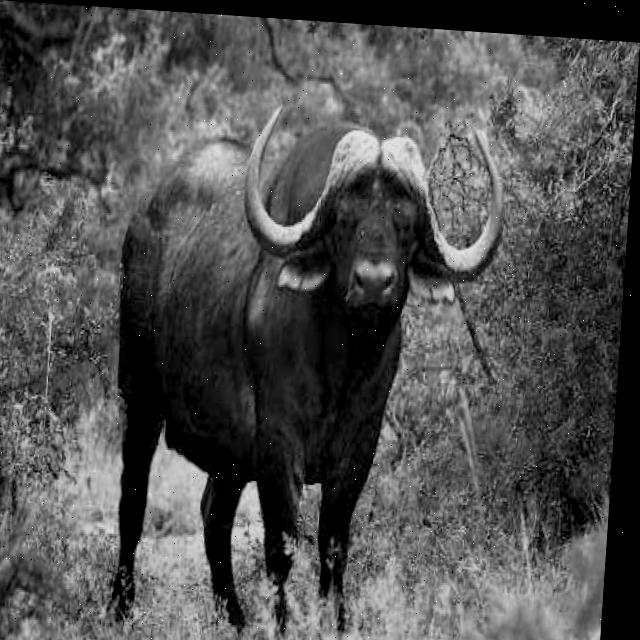Buffalo: (96, 94, 510, 640)
